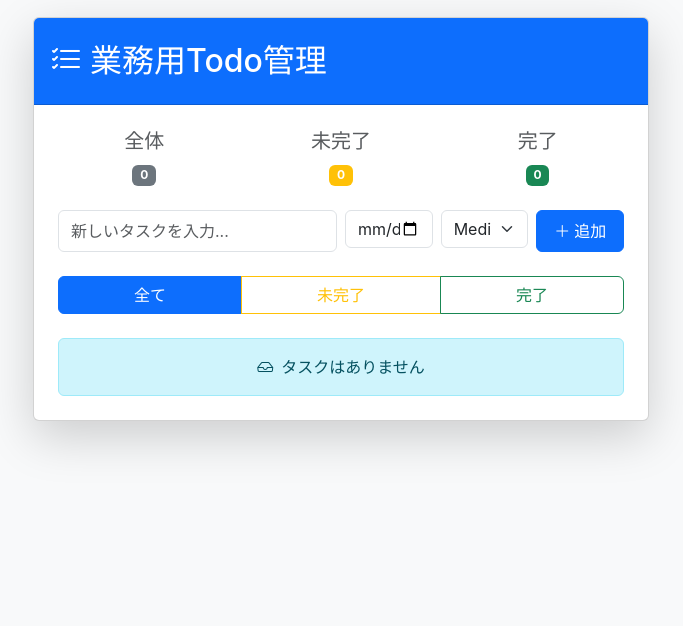
Test case: TodoApp コンポーネント › 統計情報が正しく更新される
Note: 2つのタスクを追加
Type "タスク1" into the field with placeholder "新しいタスクを入力...".
click(198, 231); type("タスク1")  # box [58, 210, 337, 252]
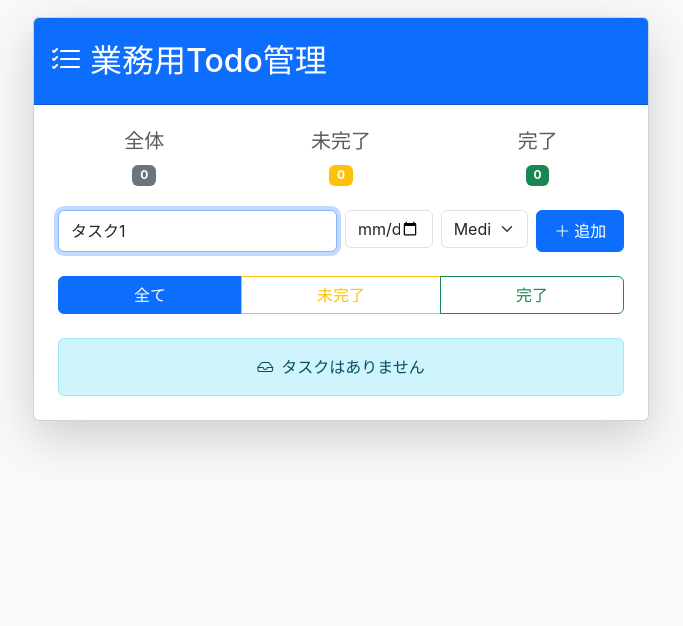
Click the button "追加".
click(580, 231)  # box [536, 210, 624, 252]
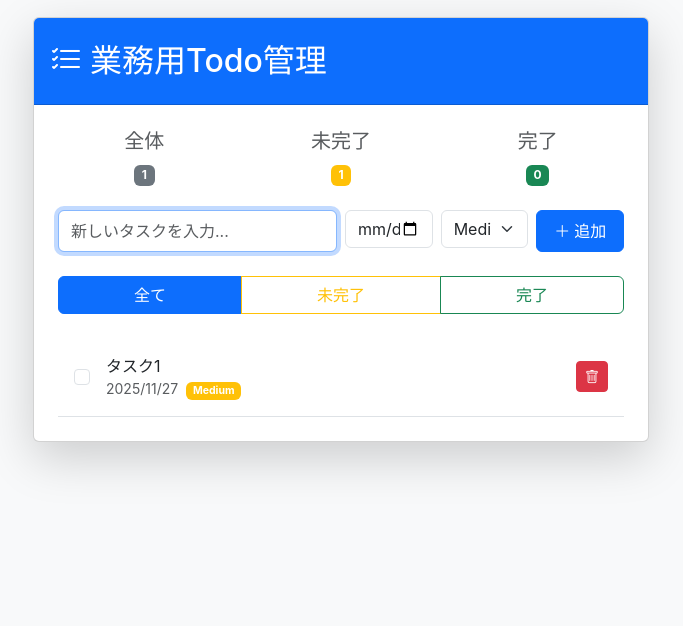
Type "タスク2" into the field with placeholder "新しいタスクを入力...".
click(198, 231); type("タスク2")  # box [58, 210, 337, 252]
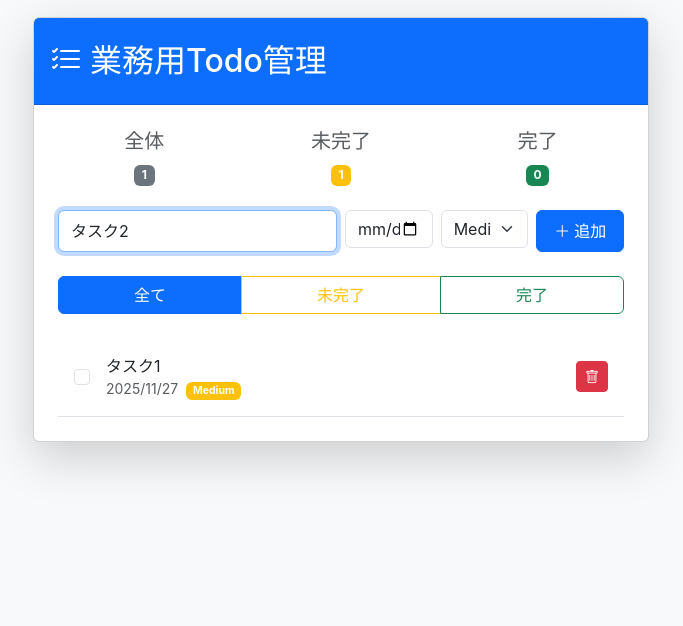
Click the button "追加".
click(580, 231)  # box [536, 210, 624, 252]
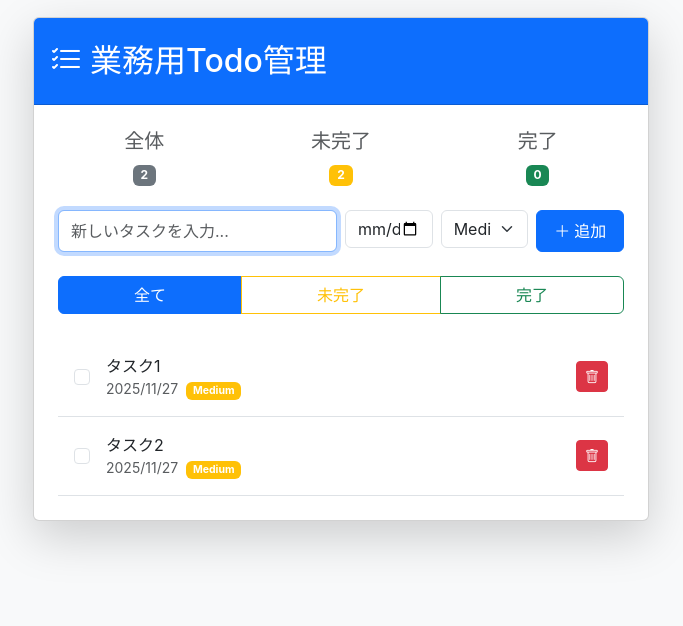
Note: 1つのタスクを完了
Click the checkbox next to "タスク1".
click(82, 377)  # box [74, 369, 90, 385]
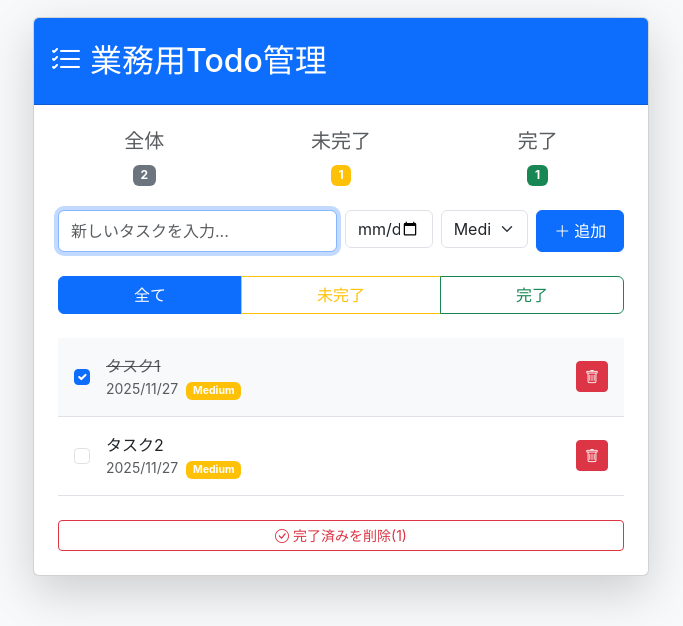
Expected: the message "2" is shown, [133, 165, 156, 186]
Expected: the 1st message "1" is shown, [331, 165, 351, 186]
Expected: the 2nd message "1" is shown, [527, 165, 548, 186]
